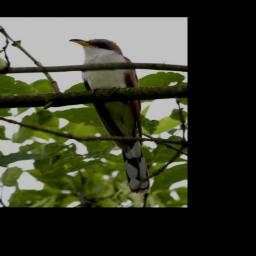Cuckoo: (67, 38, 150, 194)
